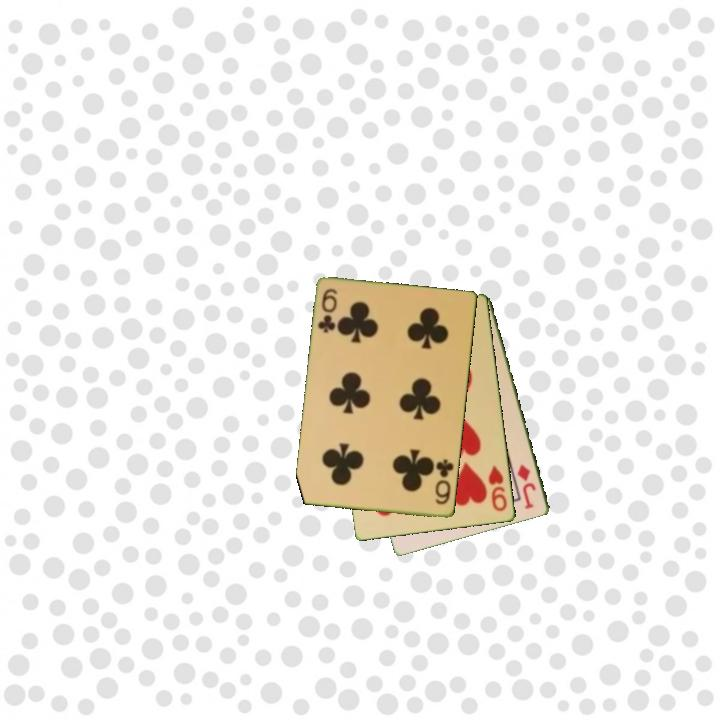6c: (432, 456, 457, 508), (315, 285, 340, 336)
9h: (485, 462, 510, 514)
Jd: (514, 461, 539, 512)
